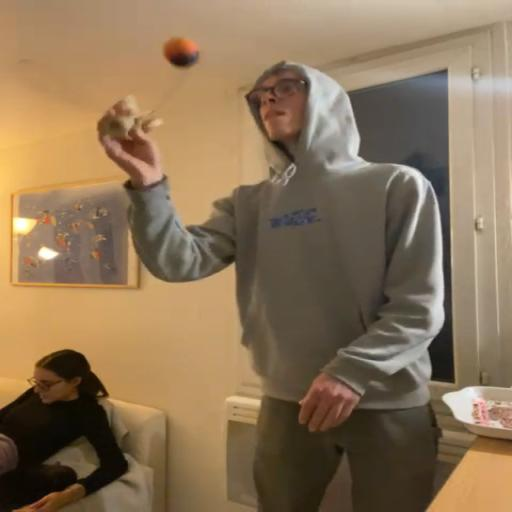kendama_ball: (162, 36, 200, 70)
